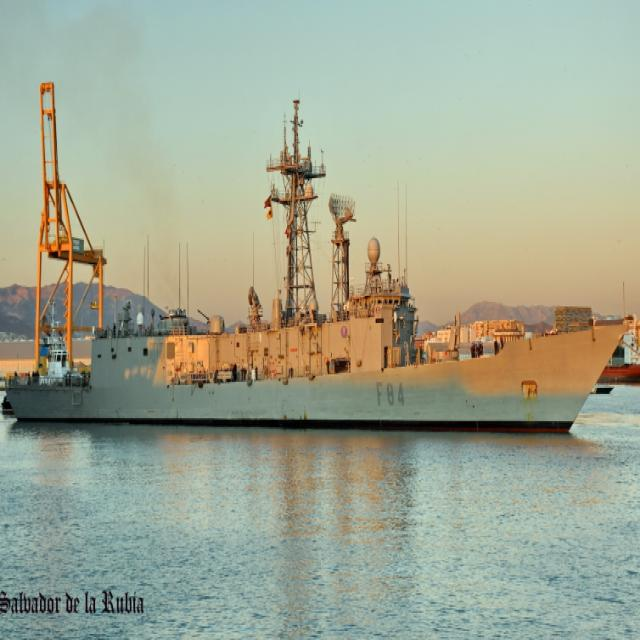Fragata: (4, 98, 635, 442)
